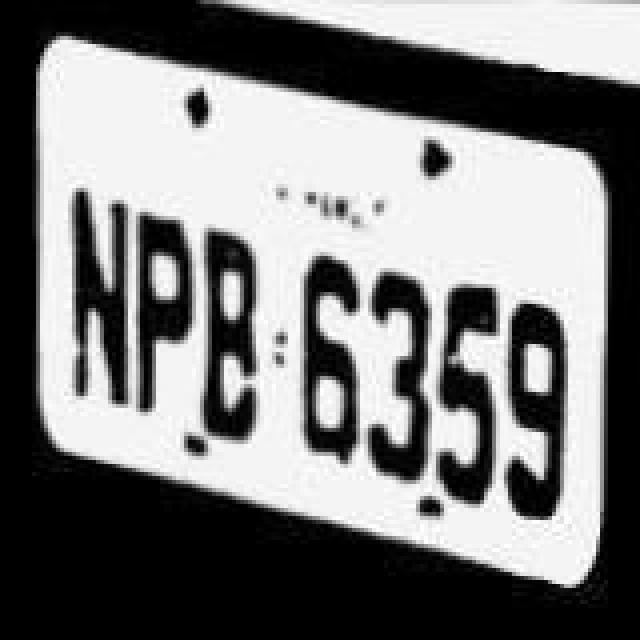3: (360, 248, 436, 496)
5: (430, 252, 506, 508)
6: (290, 244, 370, 488)
9: (506, 266, 582, 534)
B: (196, 224, 272, 448)
N: (52, 164, 128, 436)
P: (124, 174, 200, 438)
